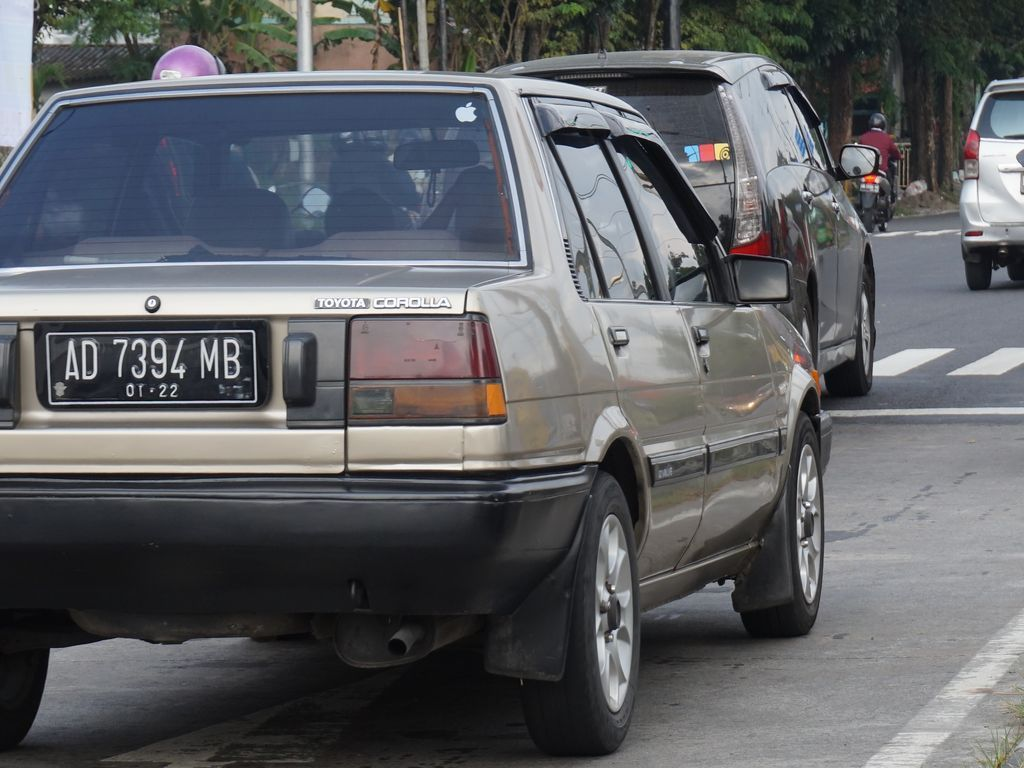plate: (51, 335, 249, 398)
